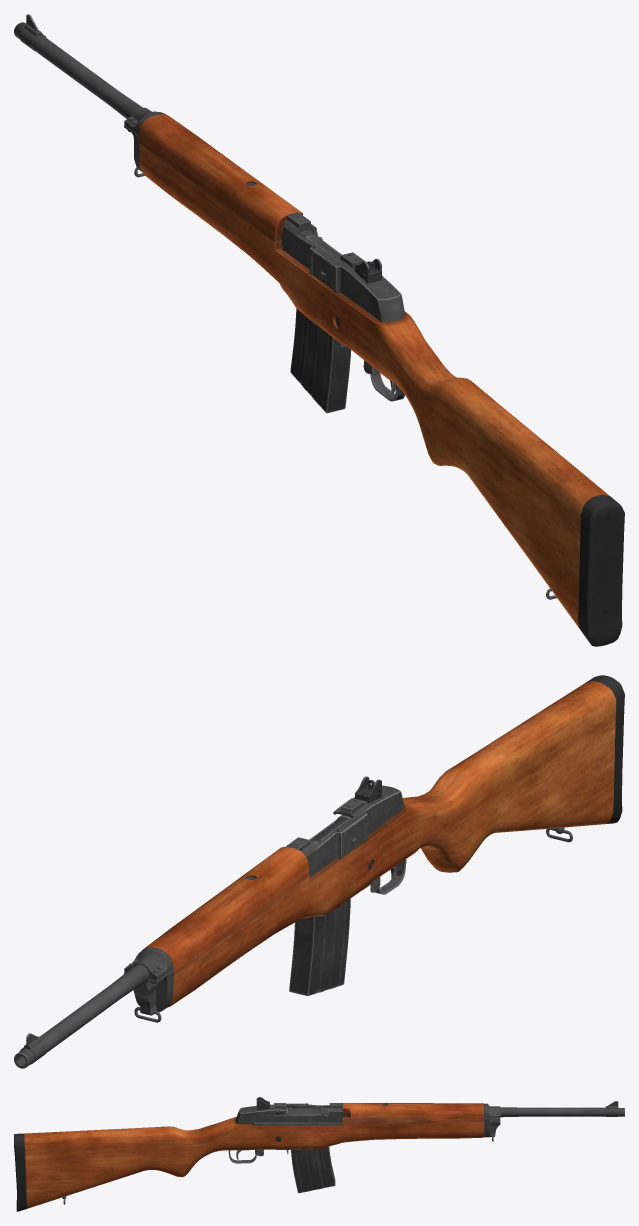
File: Mini14.glb
The picture shows the model from 3 angles, top to bottom: view 1: azimuth 30°, elevation 25°; view 2: azimuth 150°, elevation 25°; view 3: azimuth 270°, elevation 25°; orthographic projection. The views are drawn at different scales.
Visible parts, largest first — view 1: Mini14_Body, Mag; view 2: Mini14_Body, Mag; view 3: Mini14_Body, Mag.
Boxes of the visible parts, <box> form: Mini14_Body: <box>14,14,624,646</box>; Mag: <box>290,230,351,413</box>; Mini14_Body: <box>14,675,624,1068</box>; Mag: <box>289,815,351,996</box>; Mini14_Body: <box>14,1097,624,1211</box>; Mag: <box>285,1107,335,1193</box>.
Size of the model in its own units: 0.0331 by 0.191 by 0.95.
Materials: 2 (2 with a texture image).
